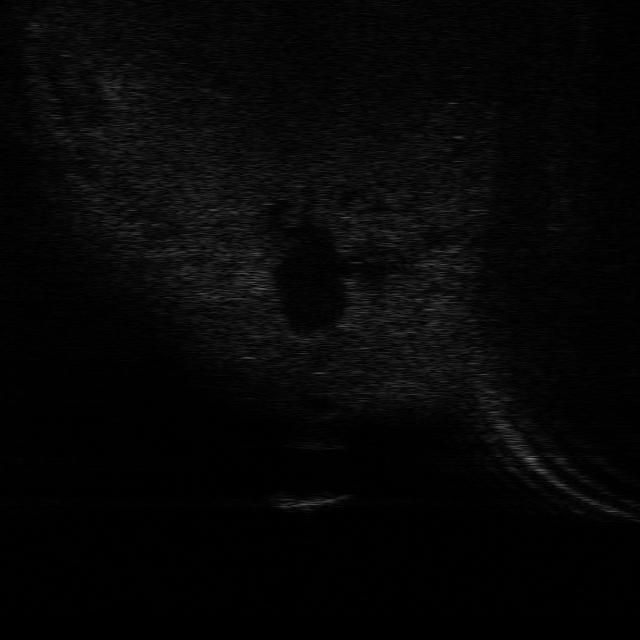cube: (261, 490, 355, 511)
